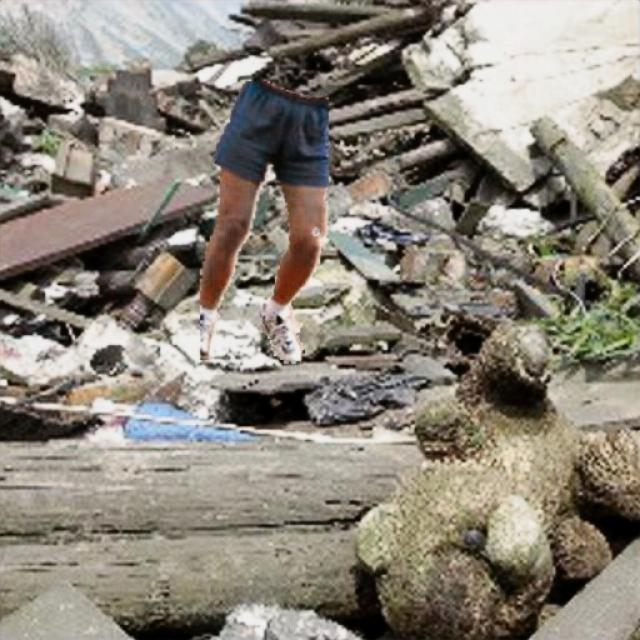Person in Rubble: (200, 81, 328, 362)
